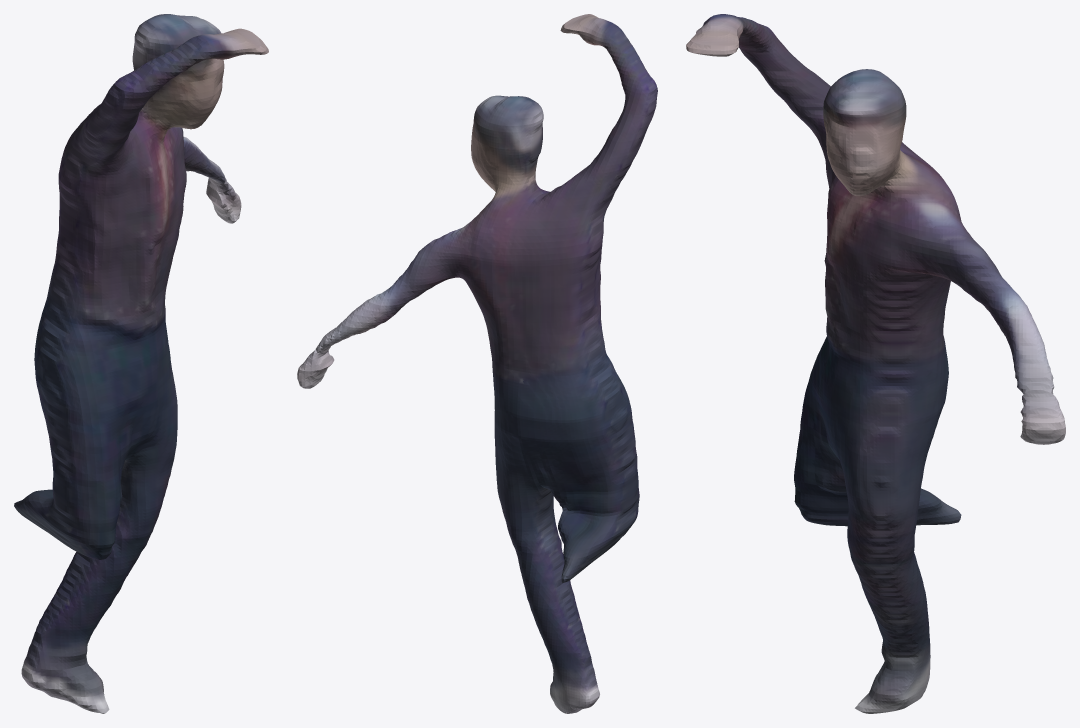
Rendered from 0062_tex.glb.
3 views of the same model, side by side, from view 1: azimuth 30°, elevation 25°; view 2: azimuth 150°, elevation 25°; view 3: azimuth 270°, elevation 25° (orthographic). The views are drawn at different scales.
Parts seen in each view (by area): view 1: 0062_tex.obj; view 2: 0062_tex.obj; view 3: 0062_tex.obj.
Part boxes in pixels (x1=…): 0062_tex.obj: x1=14, y1=14, x2=268, y2=713; 0062_tex.obj: x1=297, y1=14, x2=657, y2=713; 0062_tex.obj: x1=686, y1=14, x2=1065, y2=713.
Size of the model in its own units: 0.358 by 0.8854 by 0.4278.
